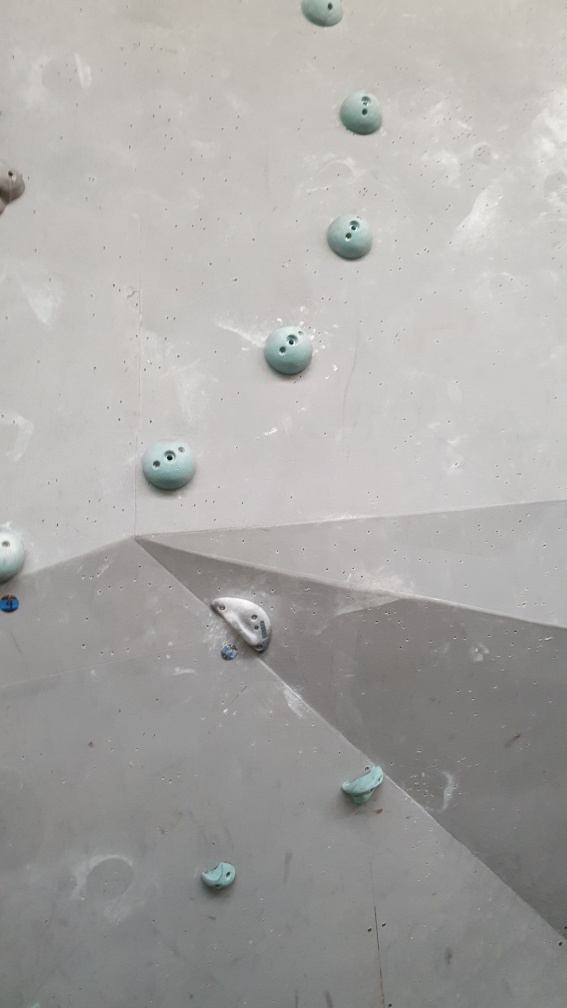Jug: (336, 762, 385, 809), (217, 640, 245, 663), (1, 595, 24, 616)
Sloper: (141, 435, 201, 493), (261, 322, 317, 380), (324, 210, 378, 264), (338, 88, 386, 135), (1, 525, 31, 588), (300, 1, 350, 30)
